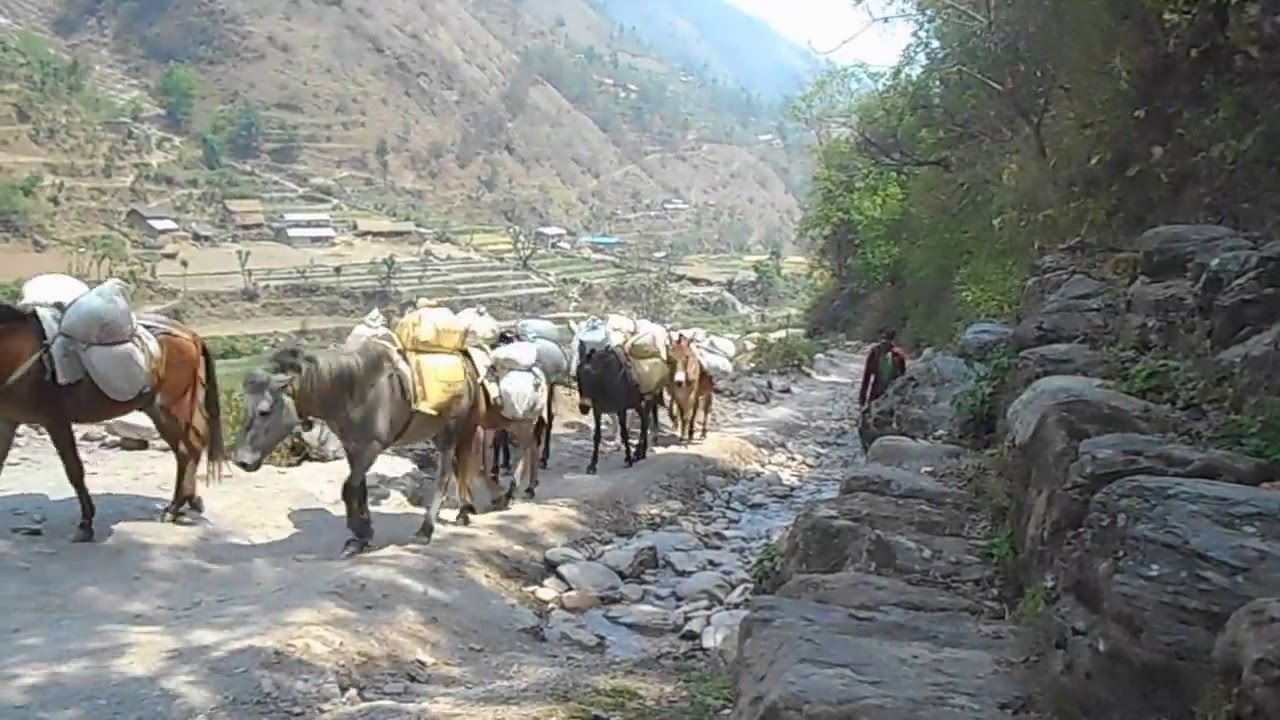equine: (1, 274, 220, 543), (242, 345, 501, 555), (573, 331, 671, 474), (651, 329, 725, 452)
human: (851, 315, 914, 428)
